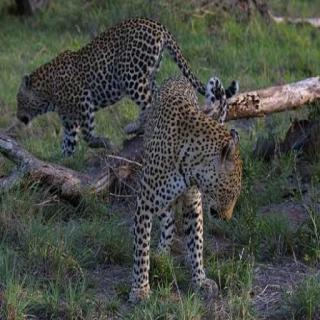Leopard: (91, 89, 283, 285), (14, 24, 227, 168)
